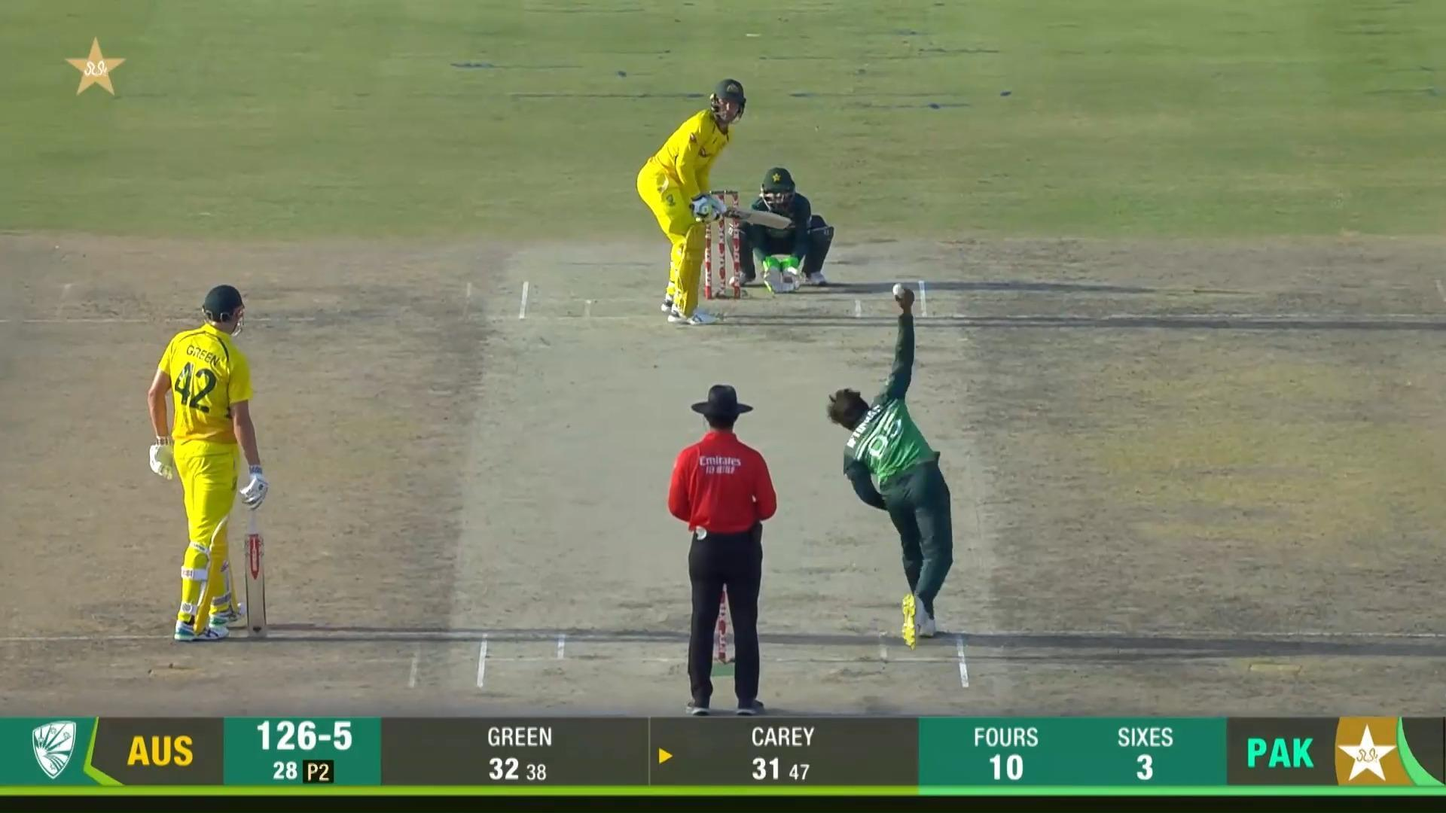BM 1: (636, 79, 789, 326)
BO: (829, 291, 956, 650)
